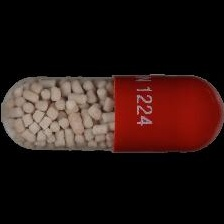0032-1224: (0, 0, 224, 224)
